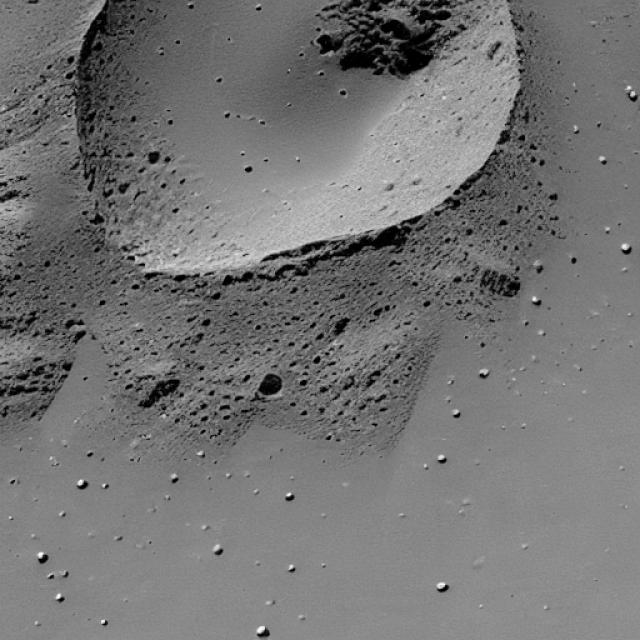crater: (70, 0, 520, 274)
